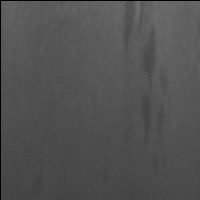inclusion: (122, 2, 171, 178)
